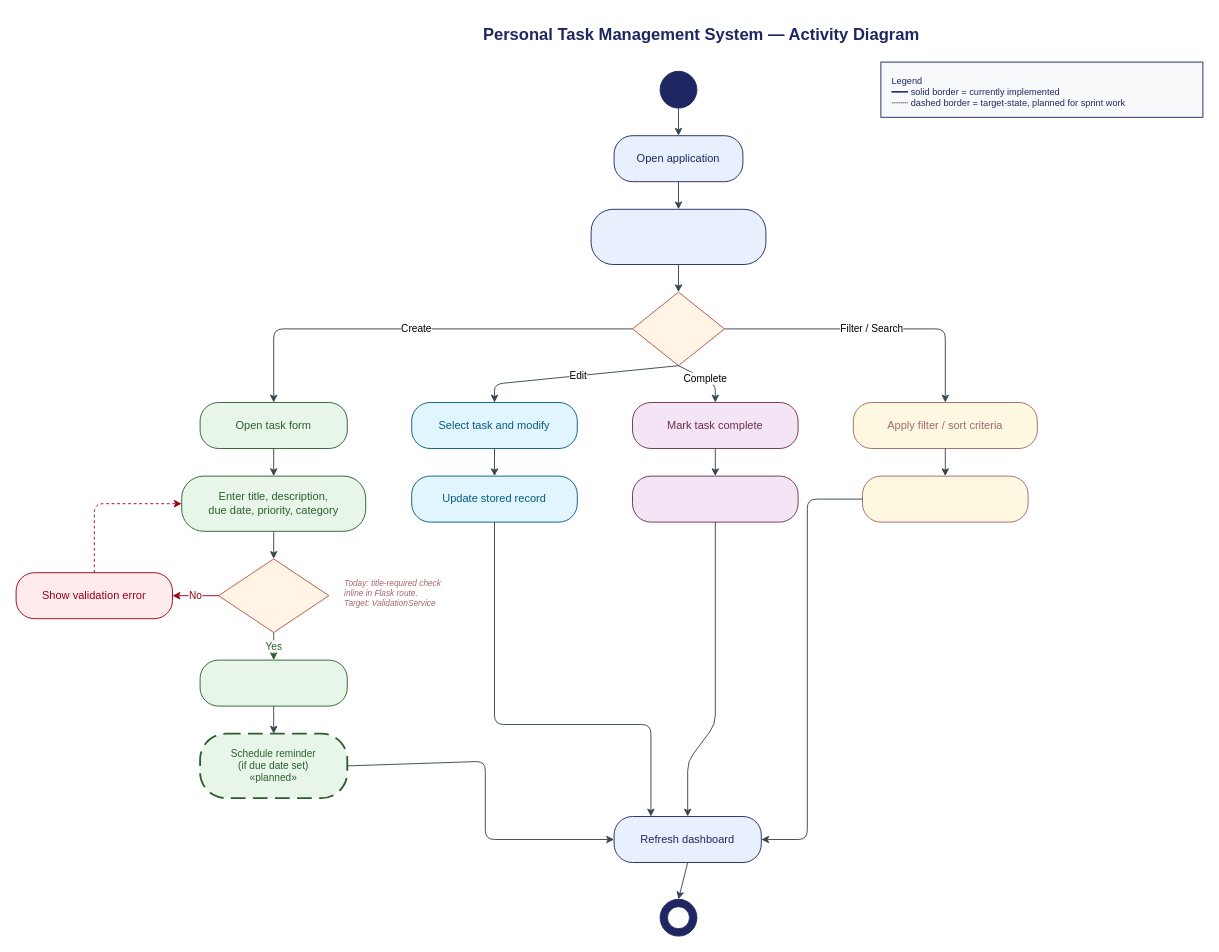
Image size: 1219x952. Some labels were removed from this diagram. Here are the shapes that lost their labels. From the top down, the box of each, then its label:
(590, 208, 766, 264): Dashboard loads pending, completed, and overdue tasks
(632, 291, 724, 366): User action?
(632, 475, 798, 522): Move to completed list
(862, 475, 1028, 522): Display filtered list
(218, 558, 329, 632): Required fields valid?
(199, 659, 347, 706): Persist task to storage
